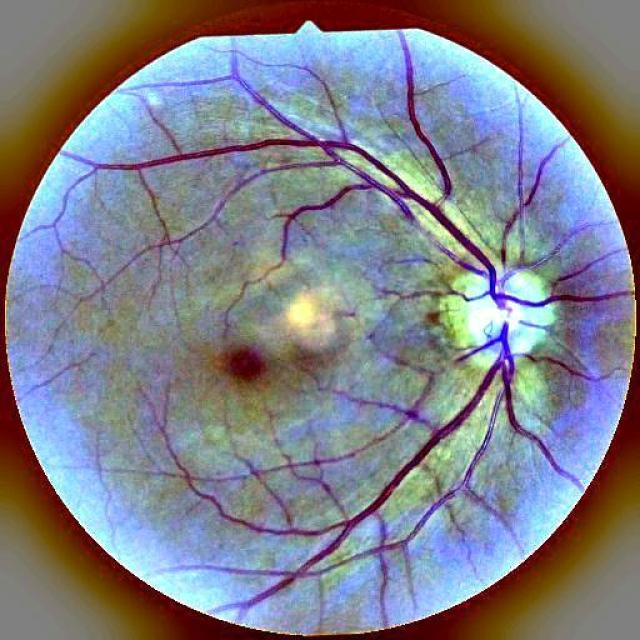Macula: (229, 348, 264, 380)
Nerves: (339, 32, 559, 315), (496, 321, 514, 381)
Optic Disk: (440, 294, 554, 358)
